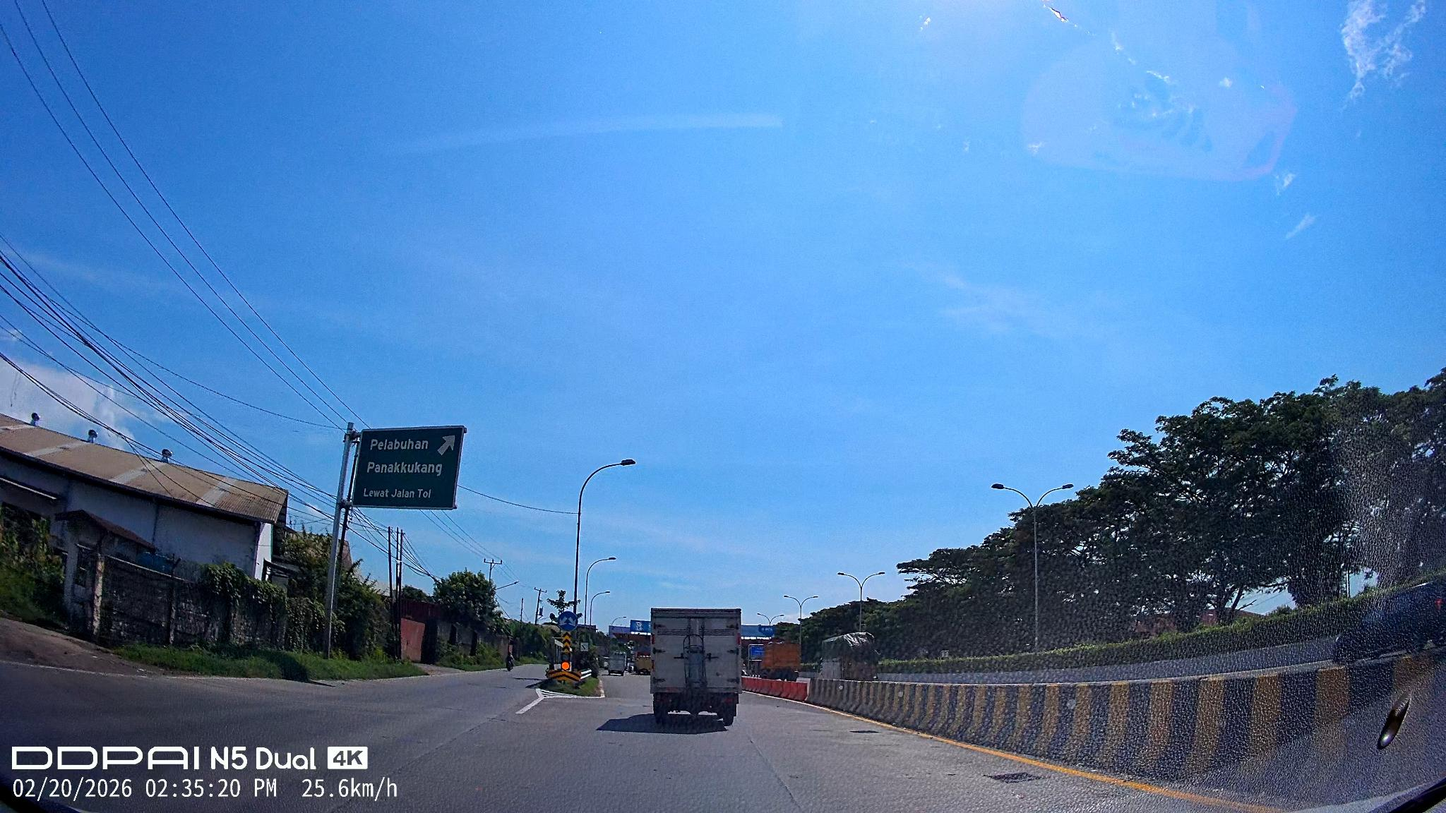rambu_teks: (351, 424, 467, 511)
